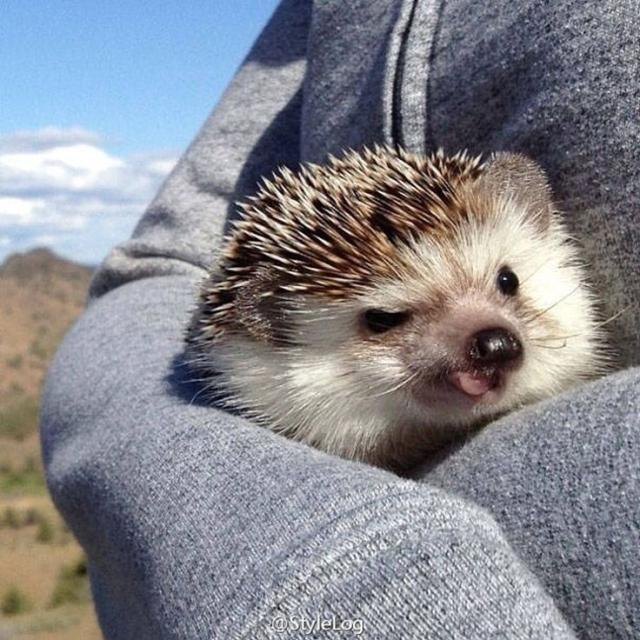Hedgehog: (193, 152, 621, 462)
